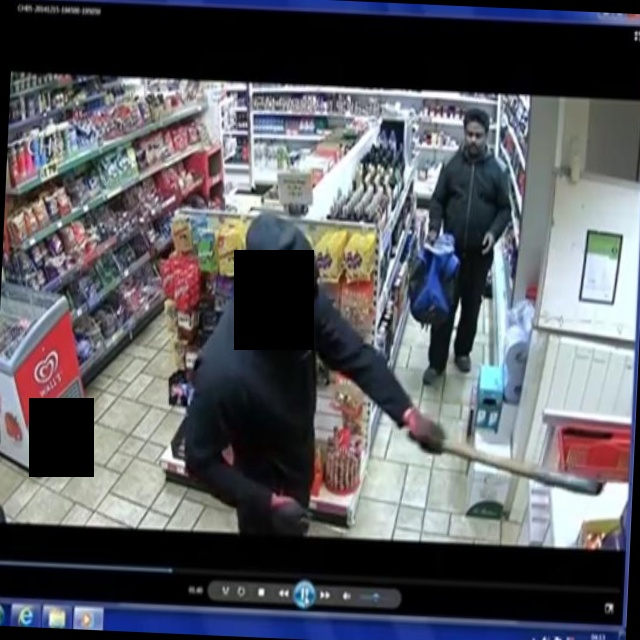gun: (397, 408, 615, 518)
